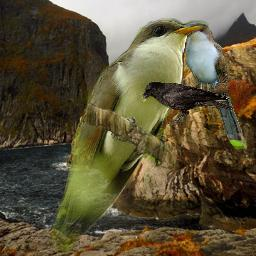Crow: (140, 81, 234, 126)
Cuckoo: (48, 18, 209, 254), (182, 23, 247, 150)
